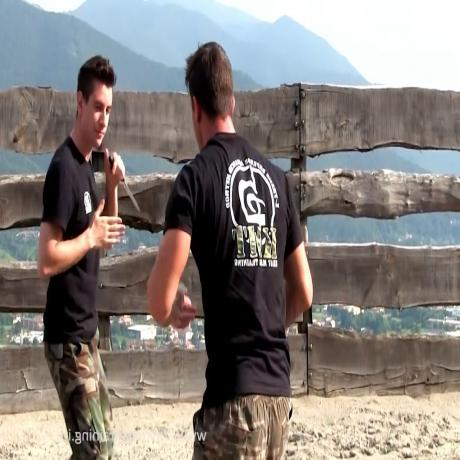1: (147, 43, 313, 460), (34, 47, 127, 460)
weapon: (125, 174, 140, 212)
